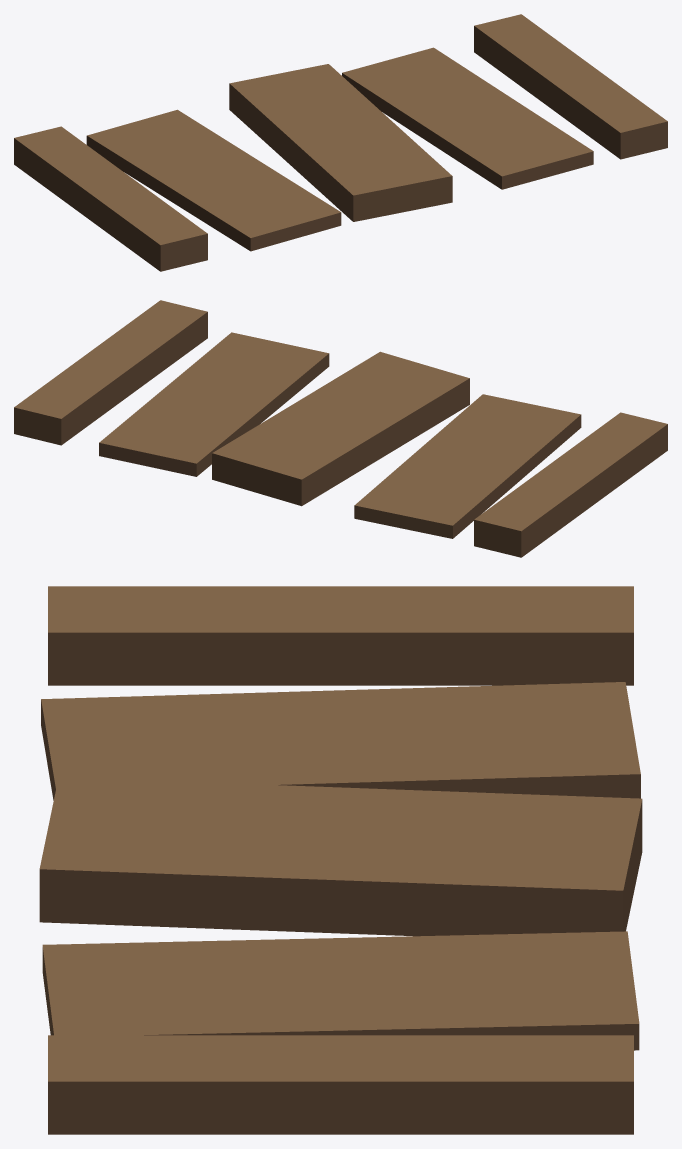
The model's file is path-boardwalk.glb.
3 renders of one model, top to bottom at view 1: azimuth 30°, elevation 25°; view 2: azimuth 150°, elevation 25°; view 3: azimuth 270°, elevation 25°, orthographic. The views are drawn at different scales.
Parts seen in each view (by area): view 1: path_wood; view 2: path_wood; view 3: path_wood.
Boxes of the visible parts, bbox=[...] form: path_wood: bbox=[14, 14, 667, 271]; path_wood: bbox=[14, 300, 667, 557]; path_wood: bbox=[39, 586, 642, 1134].
Size of the model in its own units: 2.4 by 0.1201 by 1.23.
